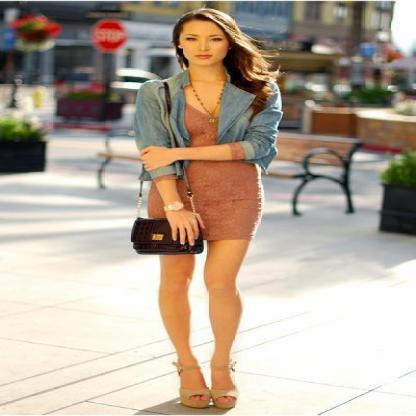bag: (130, 217, 205, 254)
dress: (148, 102, 261, 250)
jacket: (130, 58, 282, 191)
shoe: (180, 384, 235, 414)
